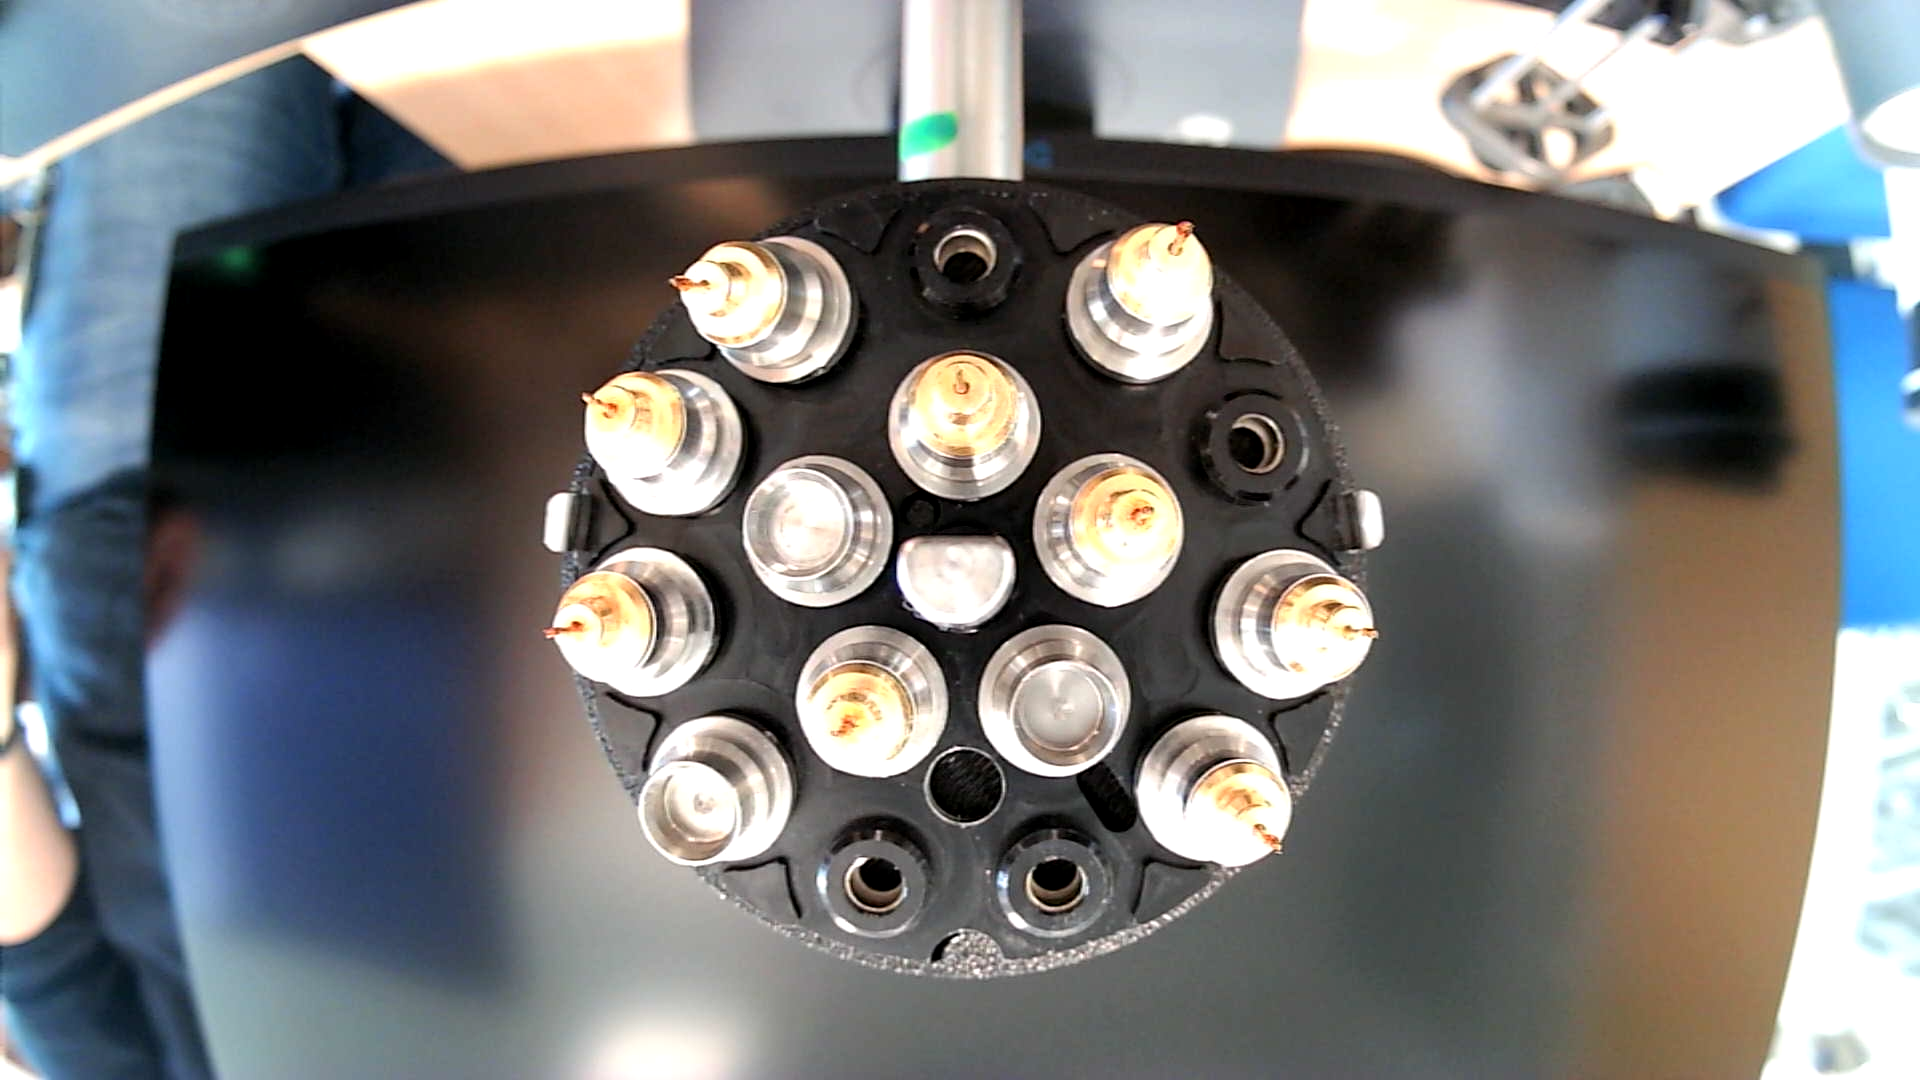adapter: (638, 716, 796, 876), (978, 622, 1133, 781), (740, 455, 894, 613)
empty: (1183, 386, 1316, 517), (993, 818, 1120, 955), (812, 808, 938, 945), (899, 203, 1030, 320)
hole: (923, 742, 1006, 829)
misplaced: (665, 235, 855, 386)
pin: (541, 545, 725, 702), (1207, 546, 1379, 703), (578, 364, 746, 522), (1064, 214, 1215, 385), (1135, 709, 1296, 868), (884, 345, 1044, 502), (793, 624, 952, 781), (1030, 448, 1184, 607)
rod: (891, 529, 1023, 641)
